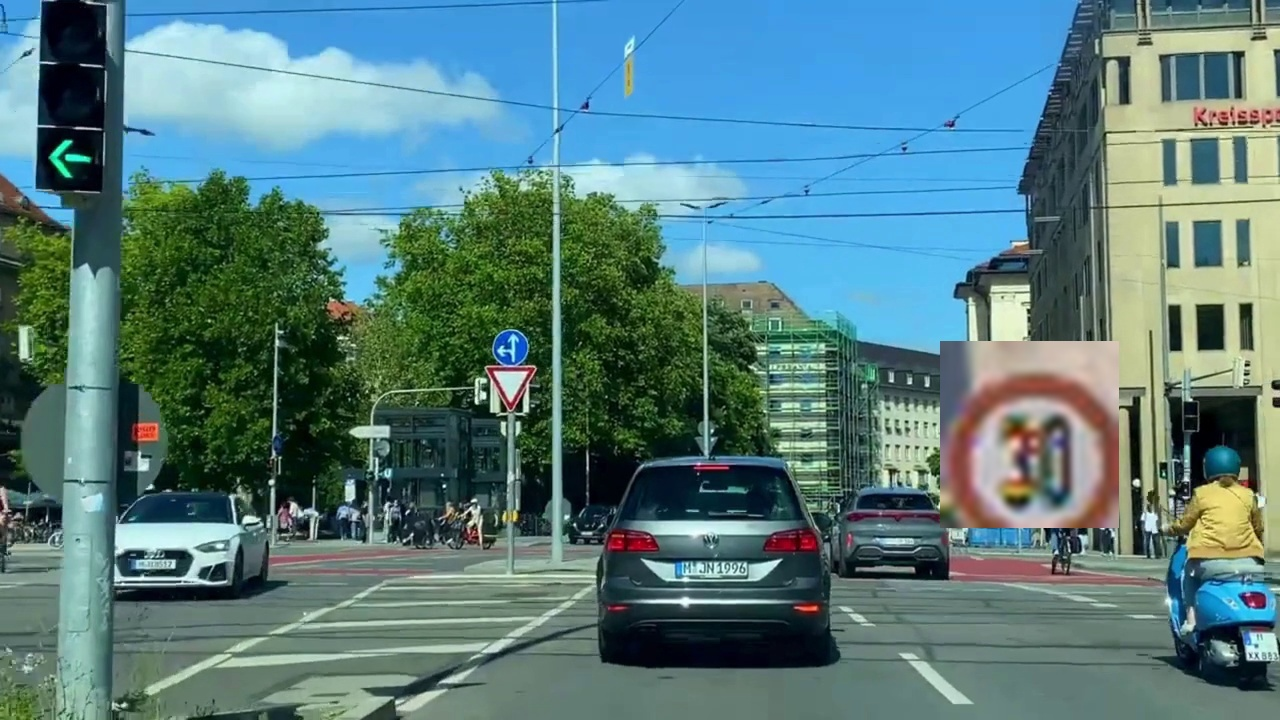Speed 30: (940, 341, 1119, 528)
